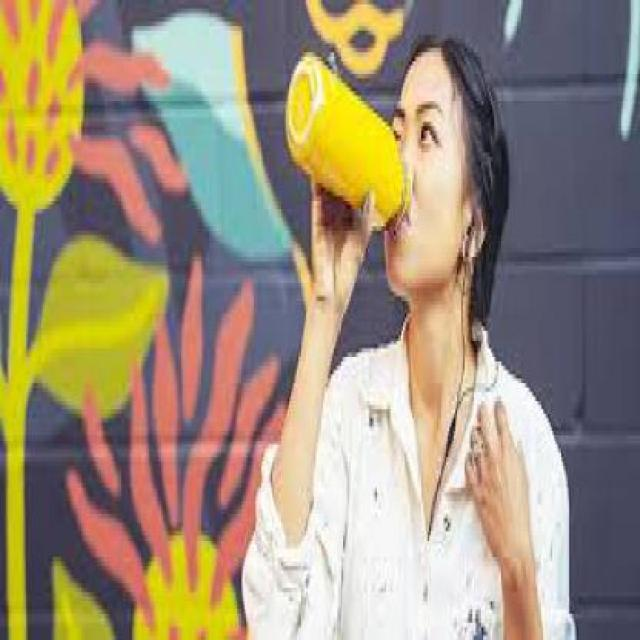Drinking: (283, 38, 412, 257)
